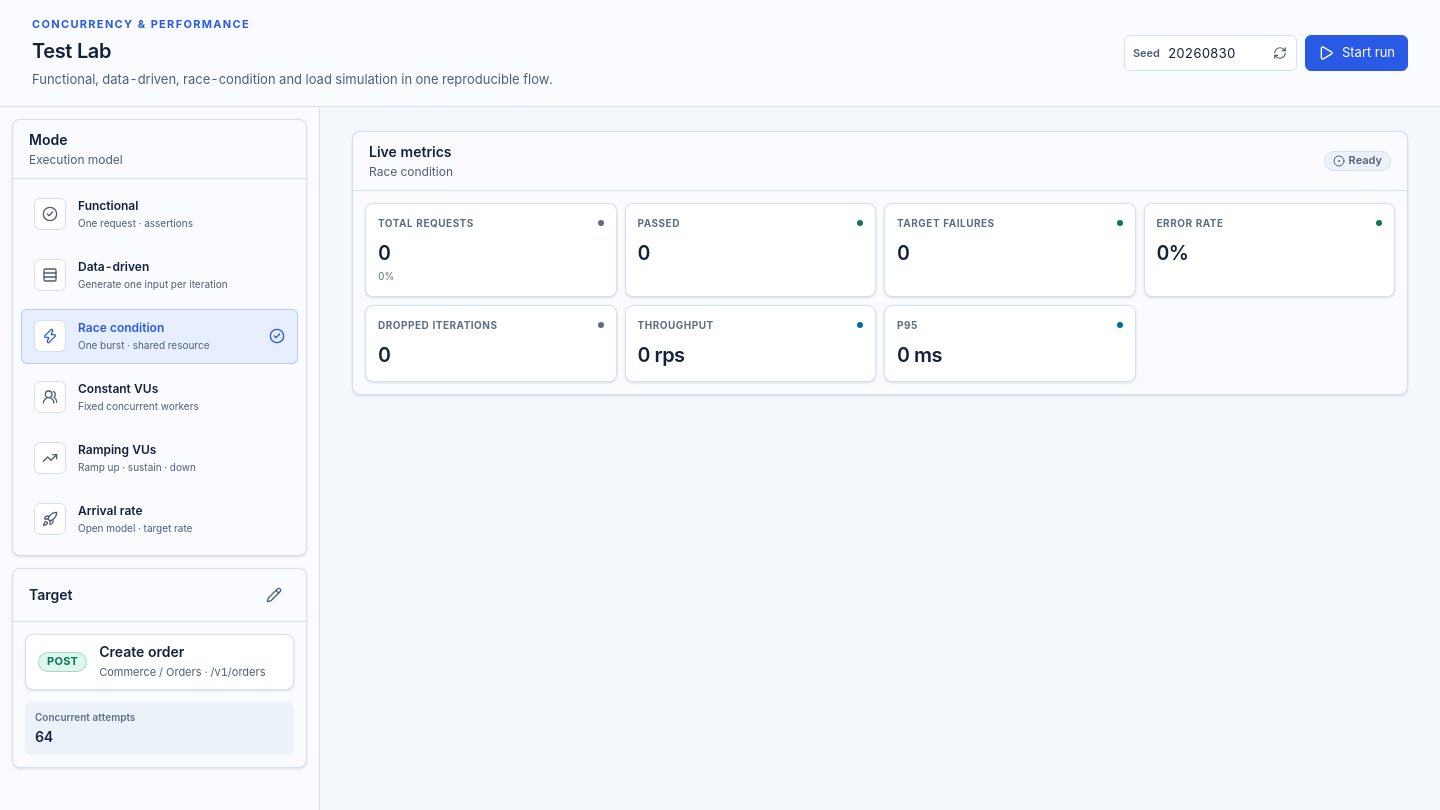
Test: Test Lab terminal states › shows only the configuration that belongs to the selected run model
Click the button named "Change target" at (274, 595), box [258,579,290,611]
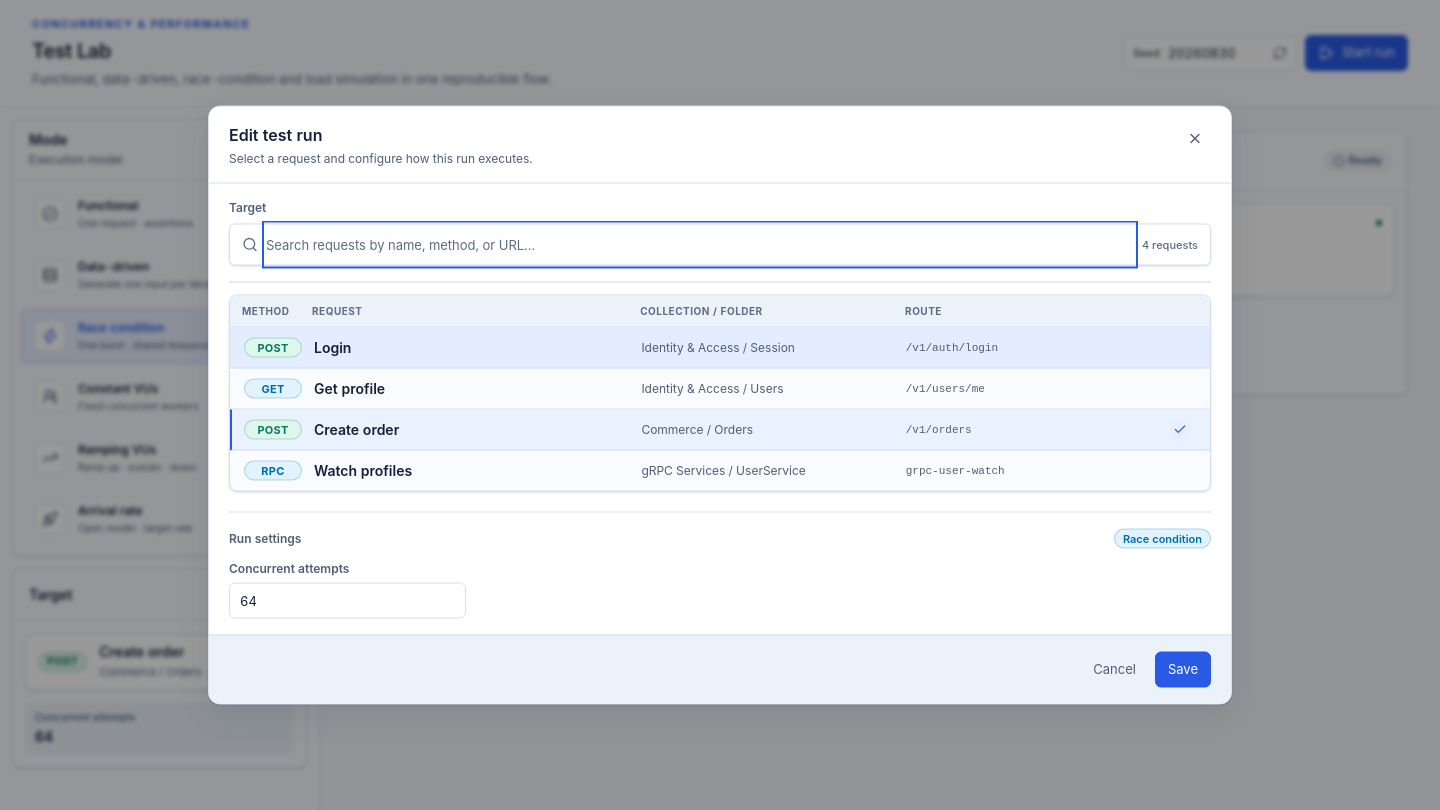
Expected: the number field labelled "Concurrent attempts" is shown, [229,582,466,618]
Click the button "Cancel" at (1115, 670), box [1082,652,1147,688]
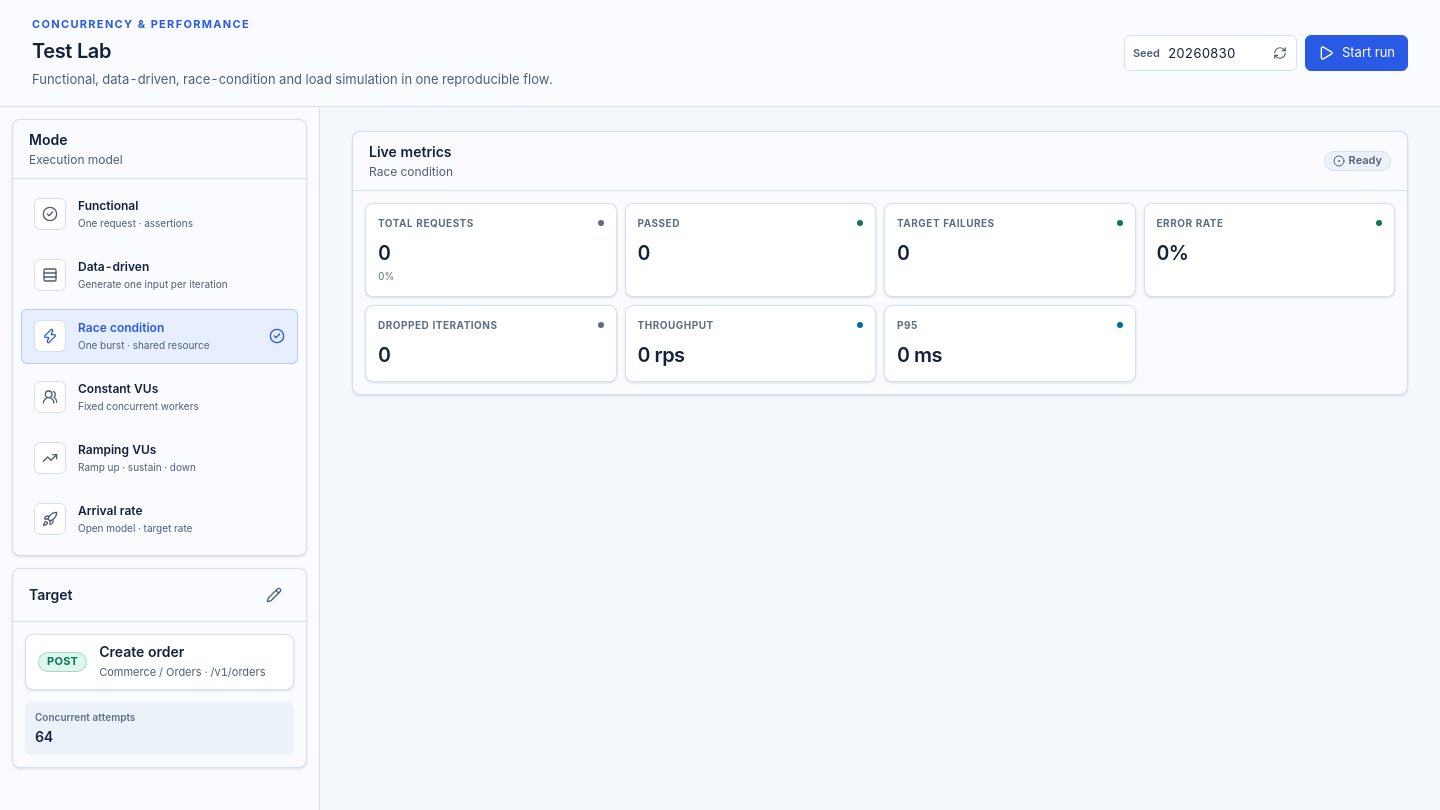
Click the button "Ramping VUs Ramp up · sustain · down" at (160, 458), box [21,431,298,486]
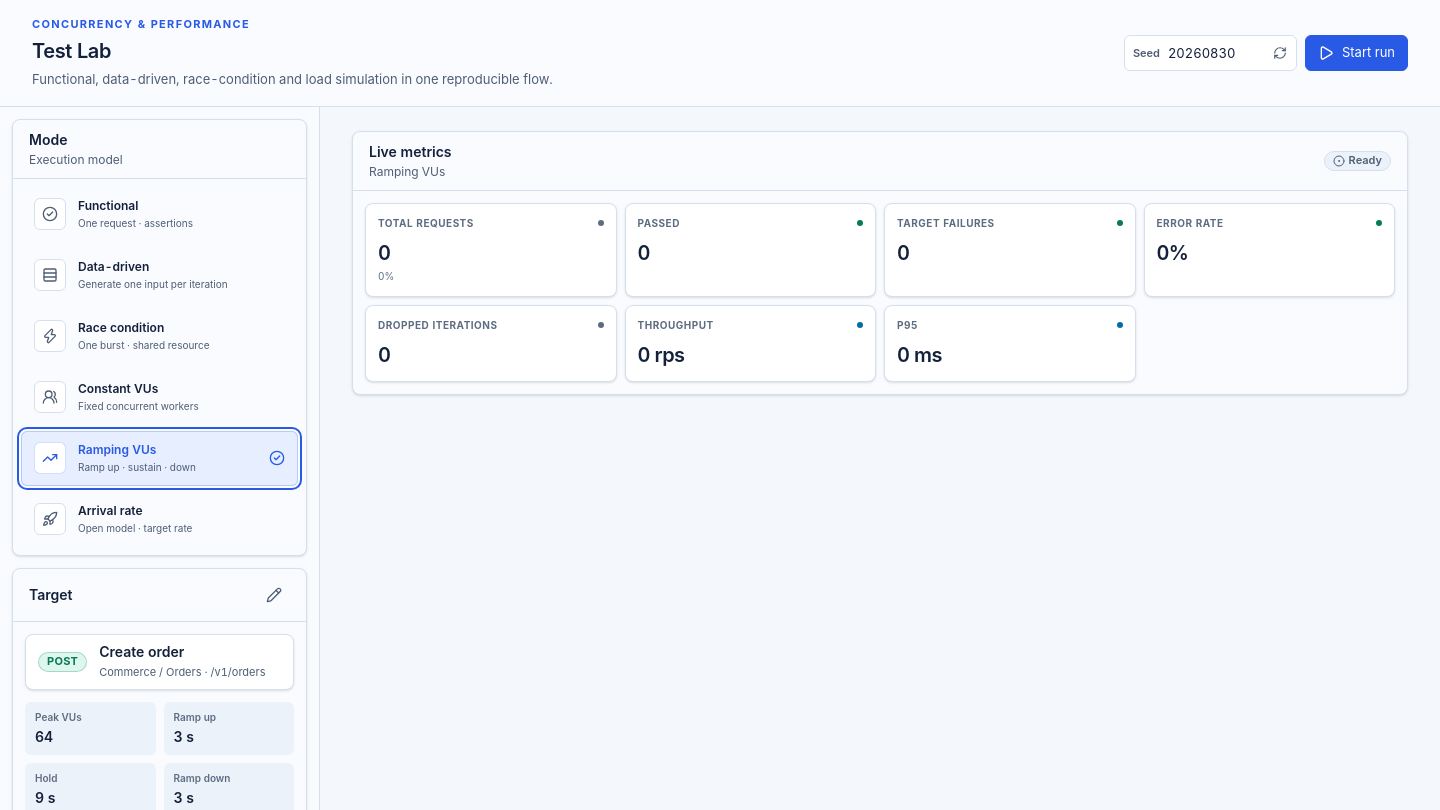
Click the button named "Change target" at (274, 595), box [258,579,290,611]
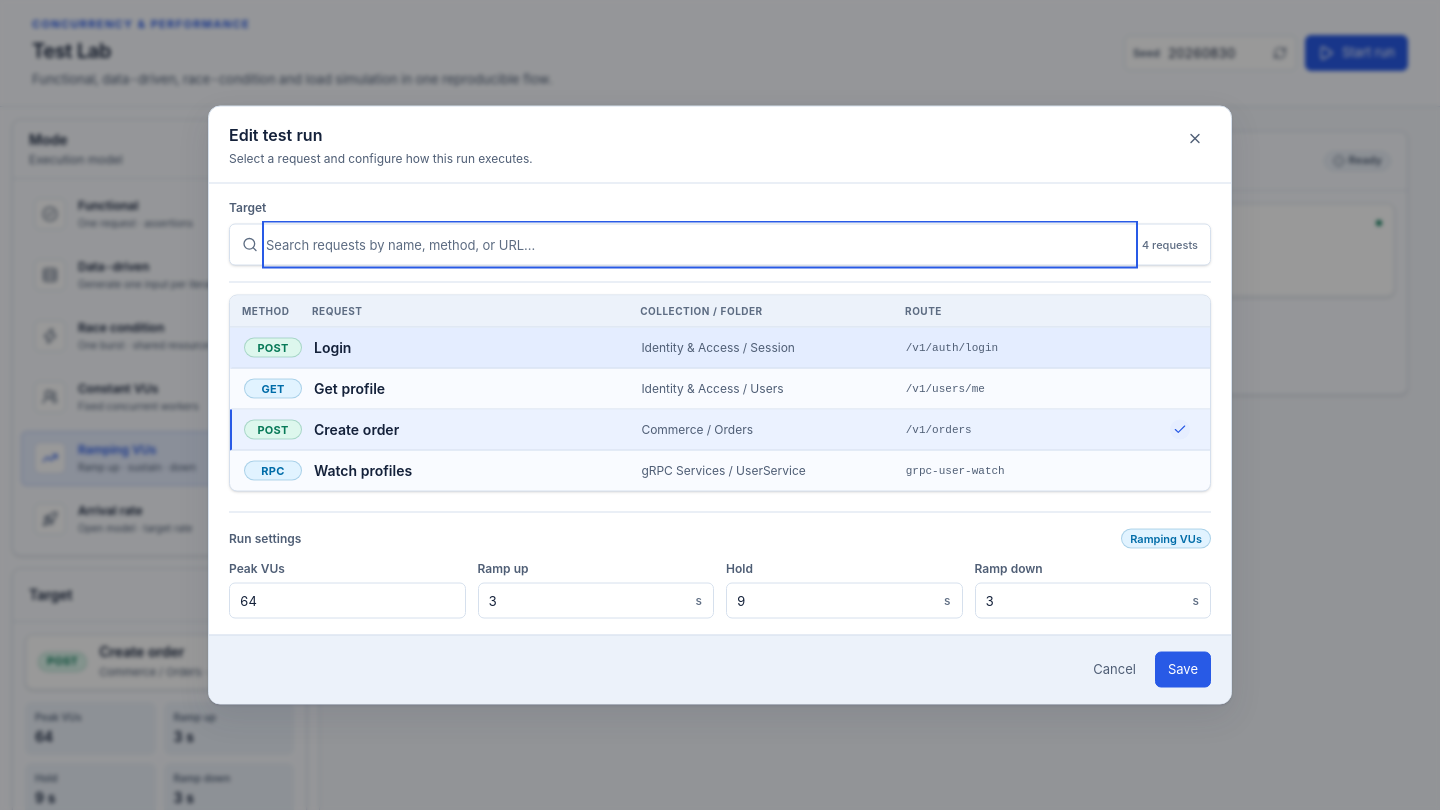
Expected: the number field labelled "Peak VUs" is shown, [229,582,466,618]
Expected: the number field labelled "Ramp up" is shown, [478,582,714,618]
Expected: the number field labelled "Hold" is shown, [726,582,962,618]
